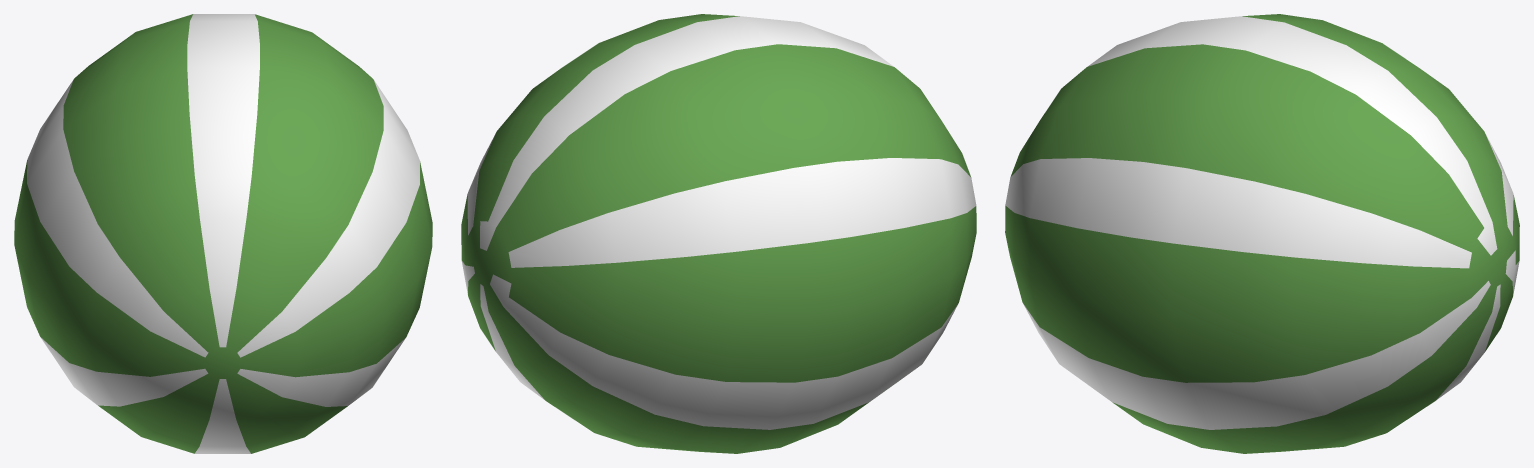
File: Toy124.fbx
3 views of the same model, side by side, from view 1: azimuth 30°, elevation 25°; view 2: azimuth 150°, elevation 25°; view 3: azimuth 270°, elevation 25° (orthographic). The views are drawn at different scales.
Parts seen in each view (by area): view 1: Toy124; view 2: Toy124; view 3: Toy124.
Part boxes in pixels (left/top/right/bottom): Toy124: left=14, top=14, right=432, bottom=453; Toy124: left=461, top=14, right=976, bottom=453; Toy124: left=1005, top=14, right=1519, bottom=453.
Bounding box in the file's own units: 0.1624 × 0.1519 × 0.1785.
